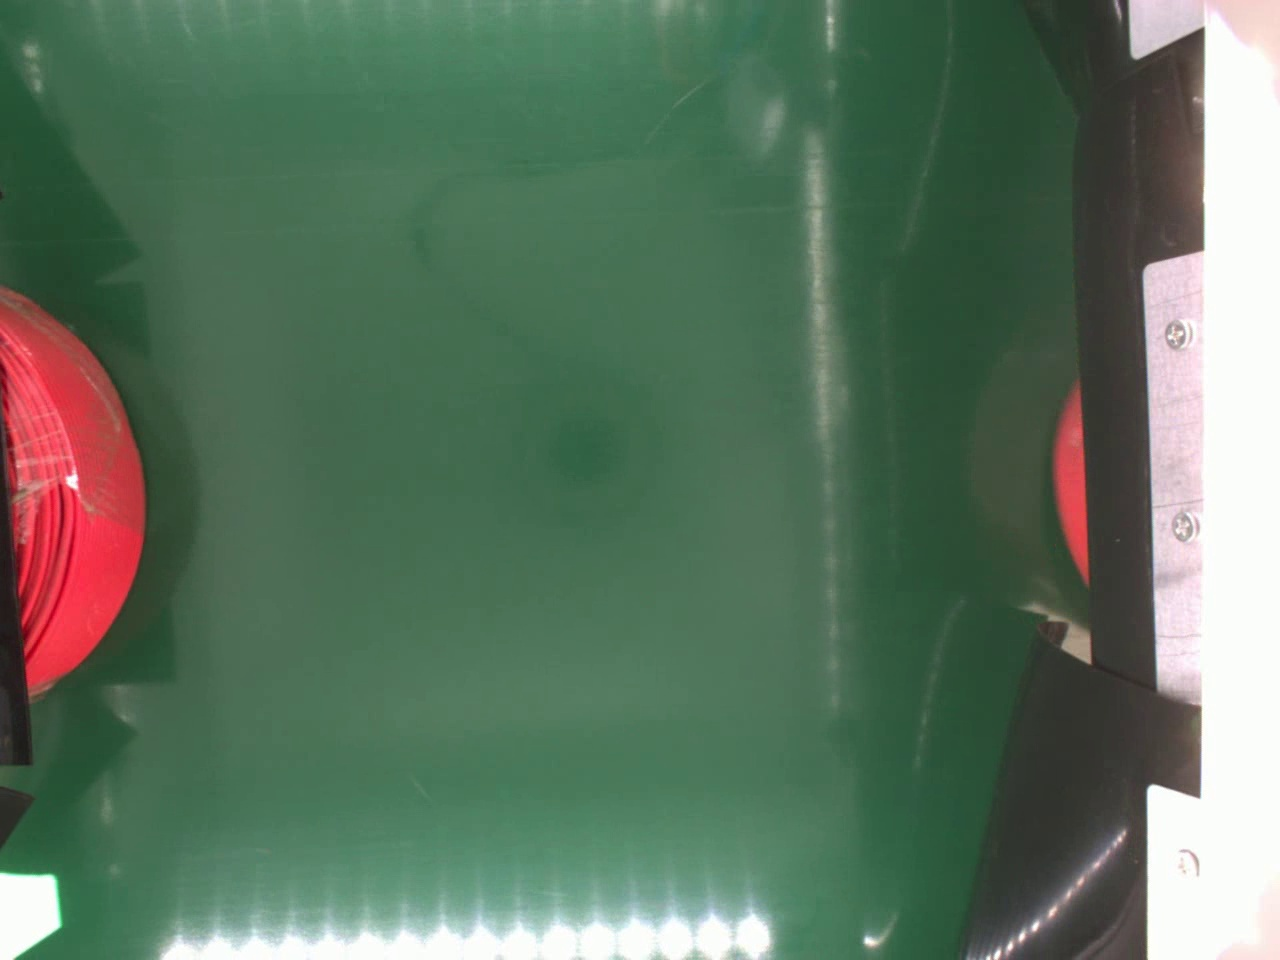red: (0, 280, 145, 693)
